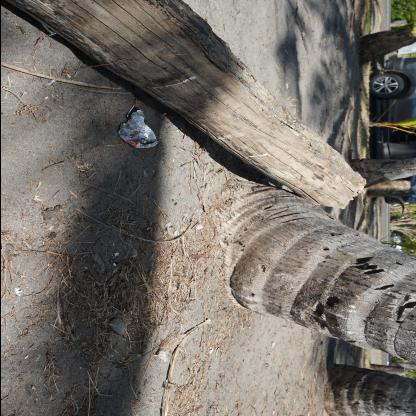plastik: (116, 106, 158, 148)
